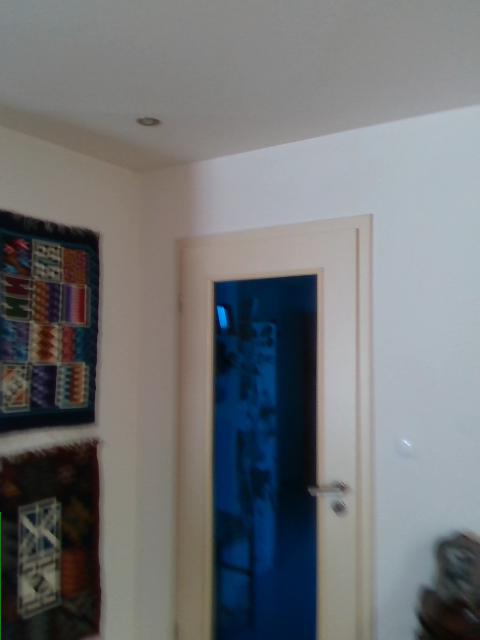door: (174, 225, 362, 639)
